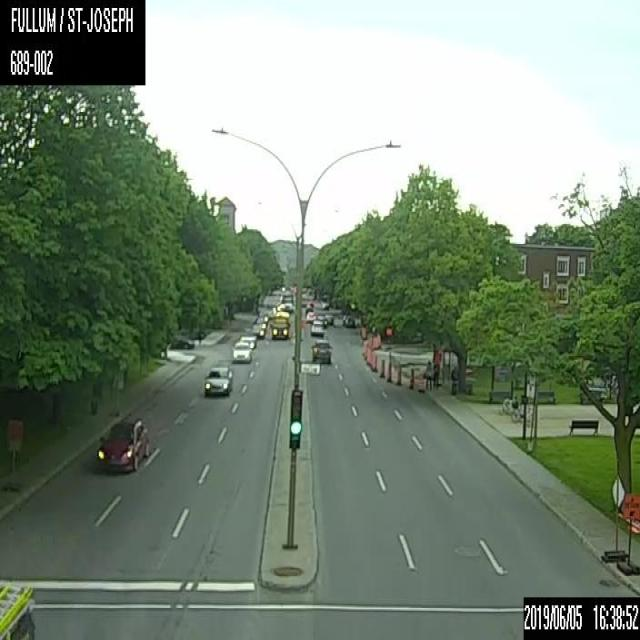construction: (600, 474, 628, 559), (616, 492, 639, 574), (408, 366, 414, 390), (395, 361, 401, 384), (386, 359, 392, 381), (386, 327, 392, 348), (379, 358, 385, 378), (372, 352, 377, 371)
pedestrian: (423, 358, 432, 391), (450, 364, 458, 394)
vehicle: (95, 412, 150, 471), (0, 582, 36, 638), (202, 364, 232, 397), (310, 340, 332, 363), (270, 317, 289, 340), (232, 341, 251, 362), (167, 335, 195, 349), (239, 328, 256, 346), (310, 319, 324, 336), (252, 323, 264, 338), (254, 316, 265, 330), (344, 315, 354, 327), (305, 310, 315, 321)
